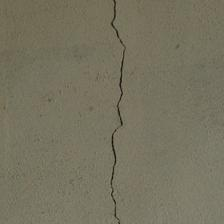Crack: (51, 2, 83, 221)
